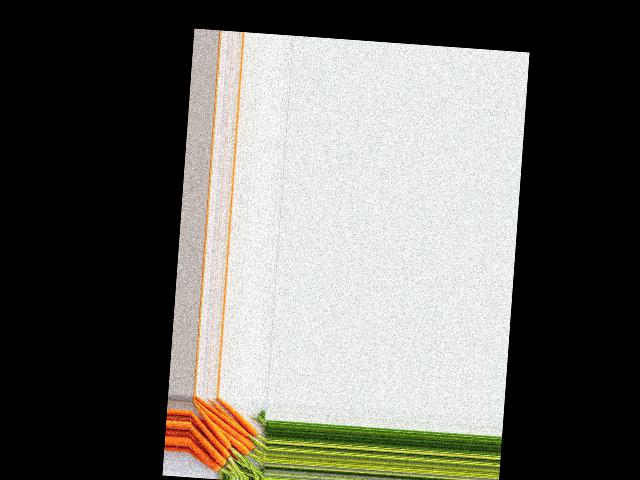carrot: (186, 443, 223, 471)
